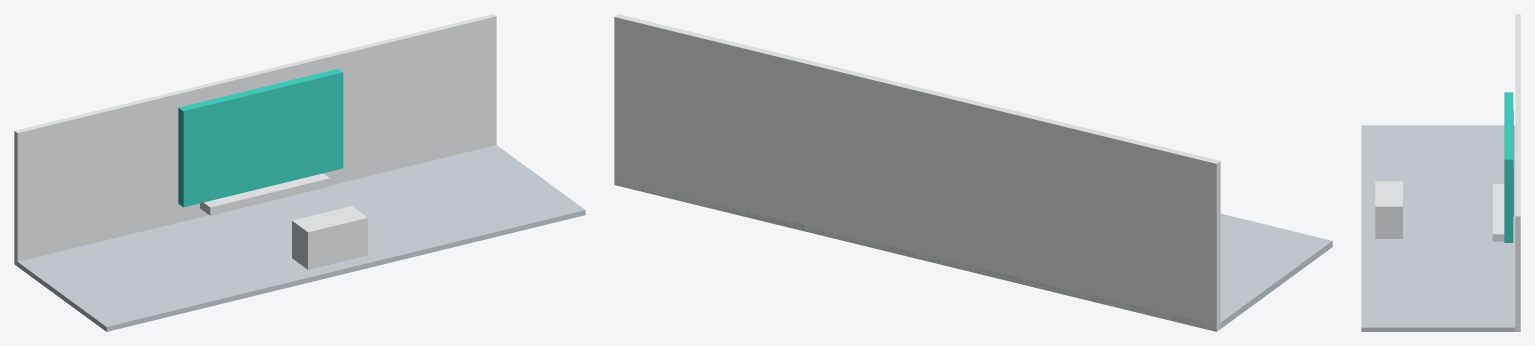
3 renders of one model, left to right at view 1: azimuth 30°, elevation 25°; view 2: azimuth 150°, elevation 25°; view 3: azimuth 270°, elevation 25°, orthographic. The views are drawn at different scales.
Visible parts, largest first — view 1: Exhibition Booth Concept; view 2: Exhibition Booth Concept; view 3: Exhibition Booth Concept.
Boxes of the visible parts, left/top/right/bottom form: Exhibition Booth Concept: left=14, top=14, right=585, bottom=331; Exhibition Booth Concept: left=614, top=14, right=1332, bottom=331; Exhibition Booth Concept: left=1361, top=14, right=1520, bottom=331.
Size of the model in its own units: 12 by 3.2 by 4.
